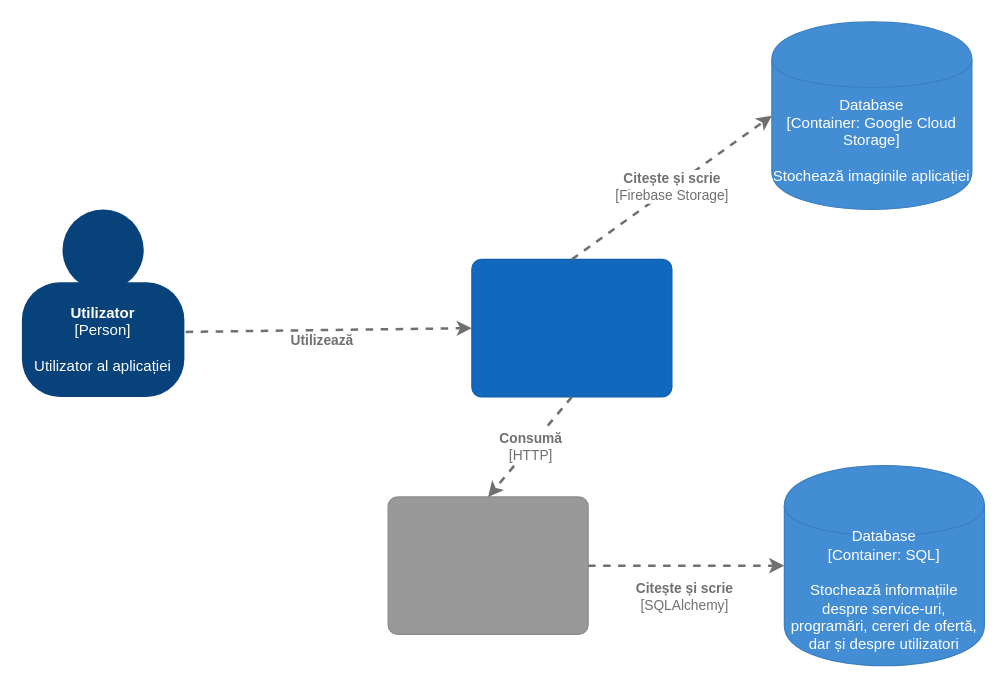
Some shapes in this 1006 by 688 pixel diagram are drawn without their labels. Each missing label, with the centre of its shape:
"Aplicația Android [Software System] Expune informațiile către utilizator" goes at (571,327).
"Server Python [Software System] Răspunde cererilor făcute din Android" goes at (487,565).
